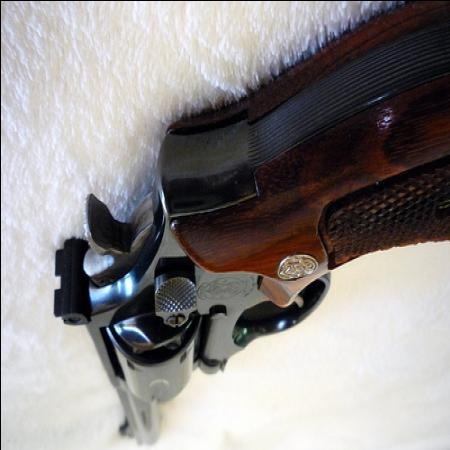Pistol: (55, 6, 449, 436)
